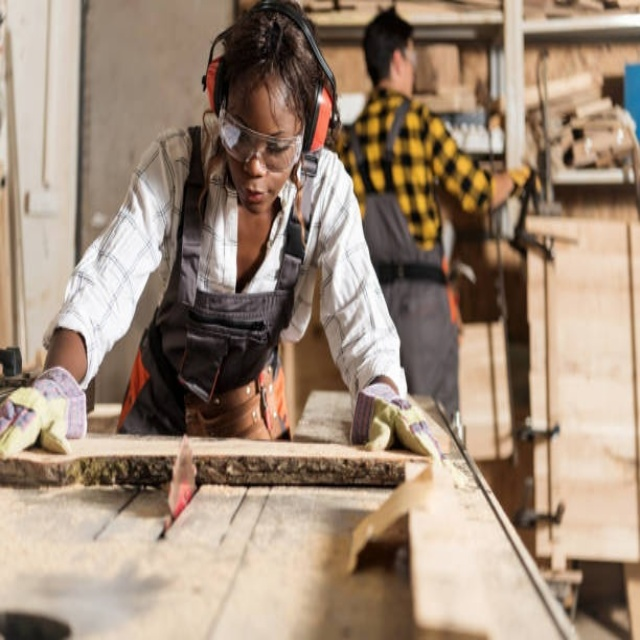Gafas: (215, 102, 305, 177)
Guantes: (1, 361, 94, 464), (347, 375, 445, 466)
Sin_mascara: (234, 179, 274, 220)
